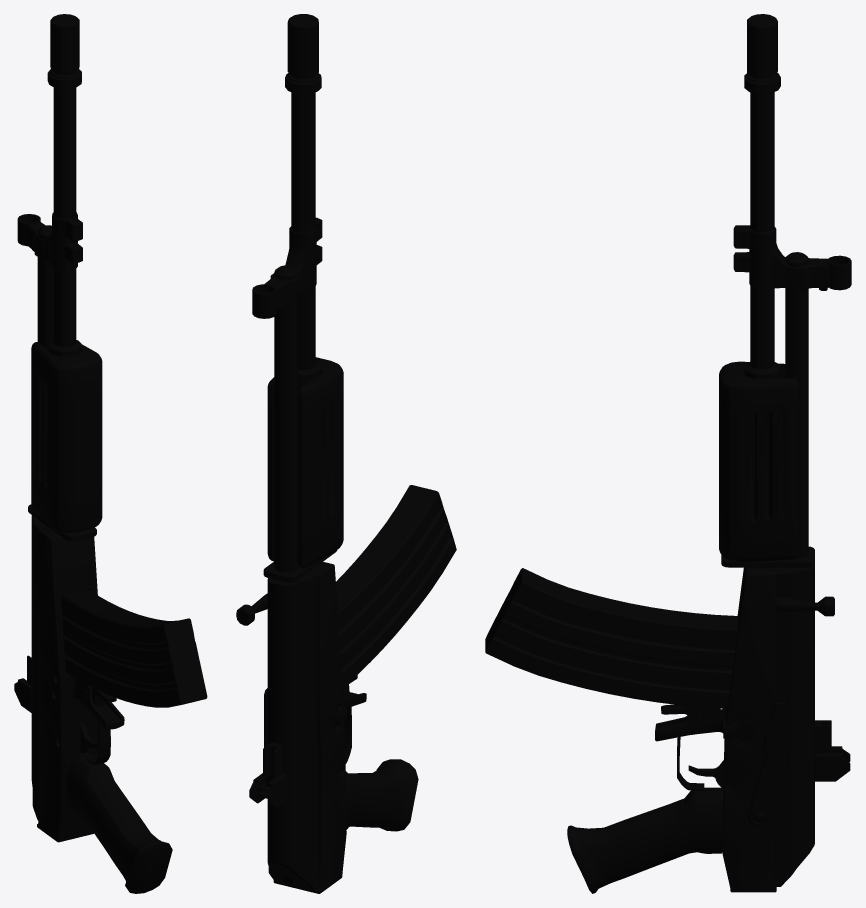
The model's file is IMI_Galil.fbx.
3 renders of one model, left to right at view 1: azimuth 30°, elevation 25°; view 2: azimuth 150°, elevation 25°; view 3: azimuth 270°, elevation 25°, orthographic. The views are drawn at different scales.
Parts seen in each view (by area): view 1: asset_IMI_Galil.001; view 2: asset_IMI_Galil.001; view 3: asset_IMI_Galil.001.
Boxes of the visible parts, left/top/right/bottom form: asset_IMI_Galil.001: left=14, top=14, right=207, bottom=893; asset_IMI_Galil.001: left=236, top=14, right=456, bottom=893; asset_IMI_Galil.001: left=485, top=14, right=851, bottom=893.
Bounding box in the file's own units: 0.0408 × 0.588 × 0.2242.
